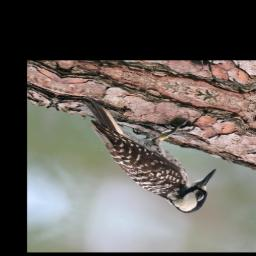Woodpecker: (59, 90, 229, 218)
